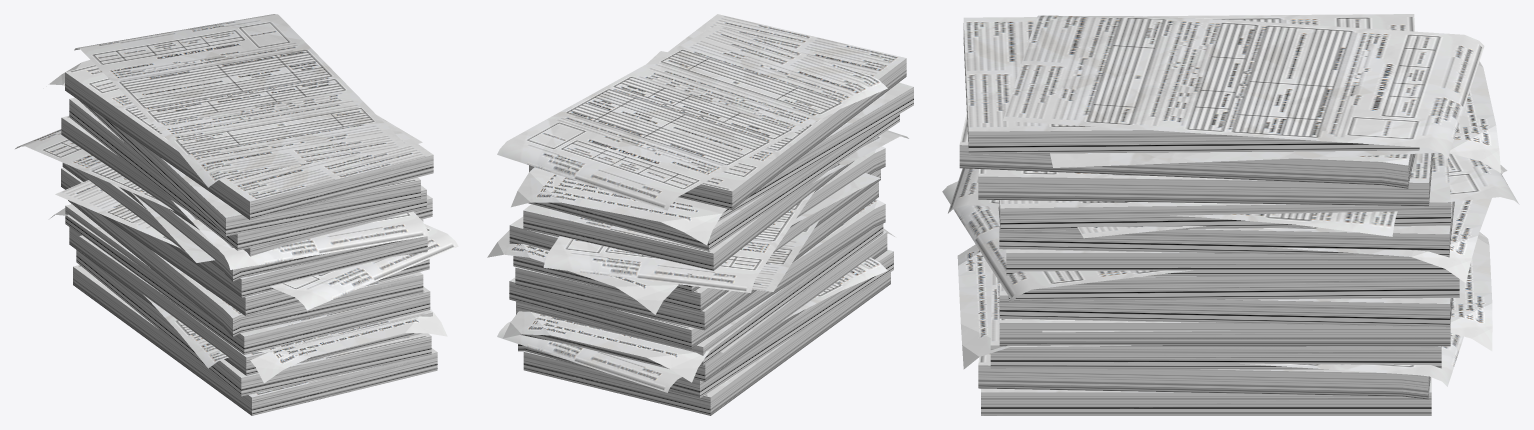
File: PAPERS_STACK.fbx
3 views of the same model, side by side, from view 1: azimuth 30°, elevation 25°; view 2: azimuth 150°, elevation 25°; view 3: azimuth 270°, elevation 25° (orthographic). The views are drawn at different scales.
Visible parts, largest first — view 1: Cube.009; view 2: Cube.009; view 3: Cube.009.
Boxes of the visible parts, <box> form: Cube.009: <box>15,14,458,415</box>; Cube.009: <box>487,14,913,415</box>; Cube.009: <box>942,14,1519,415</box>.
Bounding box in the file's own units: 20.4 × 16.22 × 30.16.
1 material, 1 textured.
